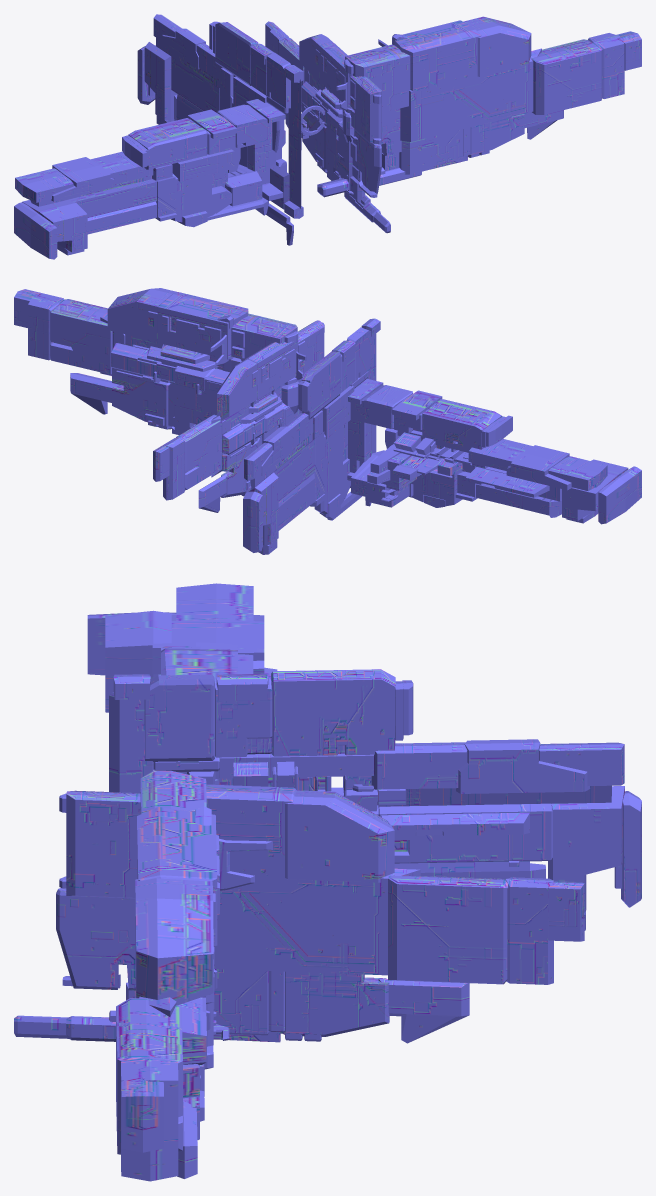
Rendered from MissionSequence_Tutorial_End.glb.
3 views of the same model, one above another, from view 1: azimuth 30°, elevation 25°; view 2: azimuth 150°, elevation 25°; view 3: azimuth 270°, elevation 25° (orthographic). The views are drawn at different scales.
Visible parts, largest first — view 1: Gate_01_Left (1), Gate_01_Right (1), Gate_01_Right, Gate_01_Left; view 2: Gate_01_Left (1), Gate_01_Right (1), Gate_01_Right, Gate_01_Left; view 3: Gate_01_Left, Gate_01_Right, Gate_01_Left (1), Gate_01_Right (1).
Boxes of the visible parts, x1=… form: Gate_01_Left (1): x1=317, y1=16, x2=641, y2=197; Gate_01_Right (1): x1=14, y1=99, x2=285, y2=259; Gate_01_Right: x1=137, y1=14, x2=303, y2=245; Gate_01_Left: x1=265, y1=21, x2=390, y2=233; Gate_01_Left (1): x1=14, y1=288, x2=299, y2=434; Gate_01_Right (1): x1=347, y1=378, x2=641, y2=524; Gate_01_Right: x1=243, y1=318, x2=380, y2=554; Gate_01_Left: x1=153, y1=320, x2=324, y2=512; Gate_01_Left: x1=14, y1=784, x2=584, y2=1043; Gate_01_Right: x1=109, y1=669, x2=641, y2=930; Gate_01_Left (1): x1=116, y1=770, x2=272, y2=1181; Gate_01_Right (1): x1=87, y1=583, x2=277, y2=784.
Size of what is drawn, in the model's own units: 951 by 269 by 451.
3 materials, 3 textured.
